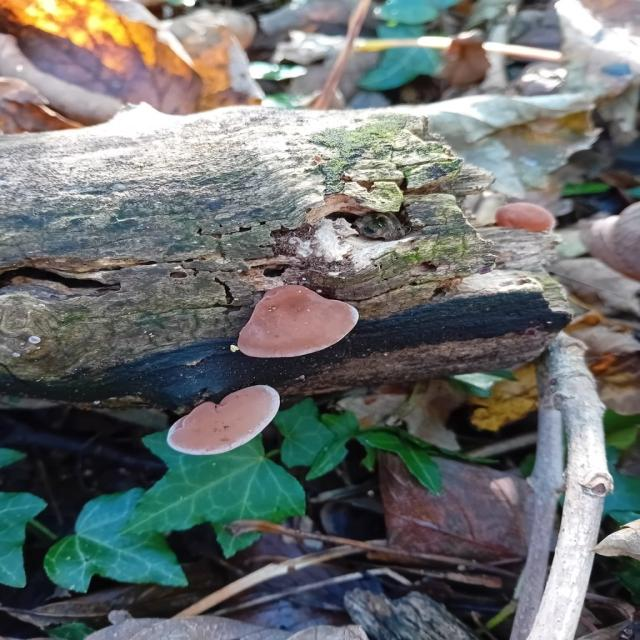Fase Muda: (235, 278, 362, 361), (166, 383, 282, 457), (496, 201, 558, 236)
